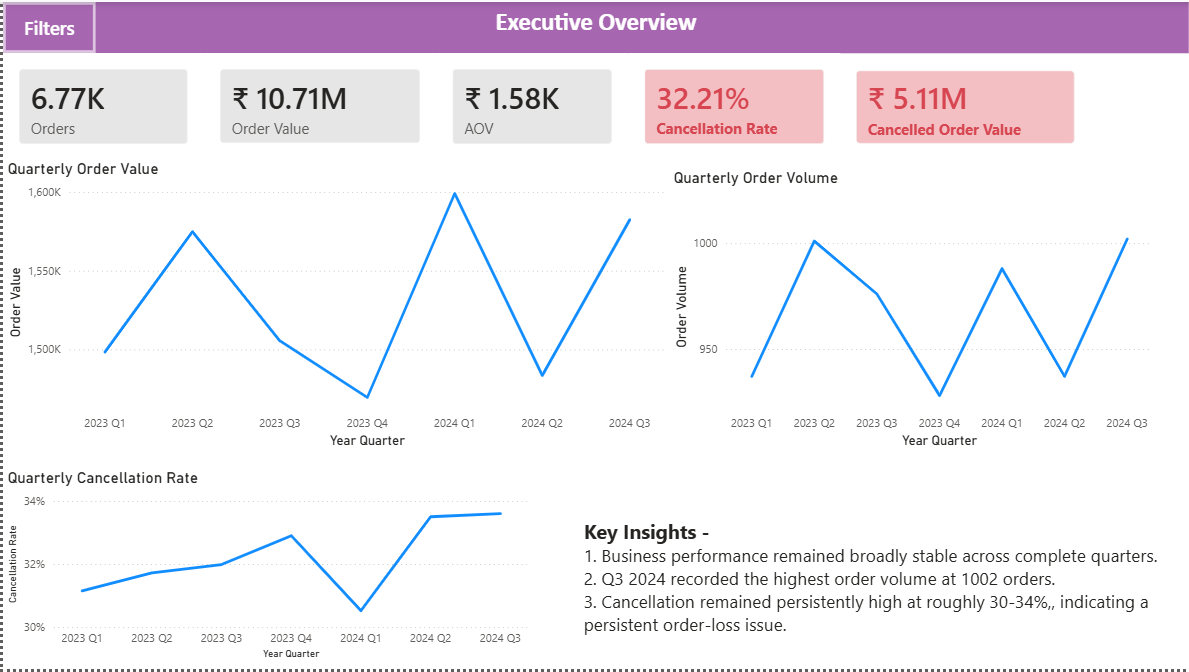

This screenshot's page, from the dashboard's own definition file:
{"tool":"powerbi","page":{"name":"Executive Overview","canvas":[1280,720],"ordinal":0},"visuals":[{"type":"textbox","box":[0,0,1280,55],"z":0},{"type":"cardVisual","fields":{"Data":["MeasuresTable.Valid Business Orders"]},"box":[0,55,216.7,115],"z":1000},{"type":"cardVisual","fields":{"Data":["MeasuresTable.Valid Business Order Value"]},"box":[217,55.1,251,115],"z":2000},{"type":"cardVisual","fields":{"Data":["MeasuresTable.Valid Business AOV"]},"box":[468.3,55,206.7,115],"z":3000},{"type":"cardVisual","fields":{"Data":["MeasuresTable.Valid Cancellation Rate"]},"box":[675,55,228.3,115],"z":4000},{"type":"cardVisual","fields":{"Data":["MeasuresTable.Valid Cancelled Order Value"]},"box":[903.5,56.7,270.4,113.3],"z":5000},{"type":"lineChart","title":"Quarterly Order Value","fields":{"Category":["Date.Year Quarter"],"Y":["MeasuresTable.Valid Business Order Value"]},"box":[0,170,718.9,315.7],"z":6000},{"type":"lineChart","title":"Quarterly Cancellation Rate","fields":{"Category":["Date.Year Quarter"],"Y":["MeasuresTable.Valid Cancellation Rate"]},"box":[0,503.3,571.7,210],"z":7000},{"type":"lineChart","title":"Quarterly Order Volume","fields":{"Category":["Date.Year Quarter"],"Y":["MeasuresTable.Valid Business Orders"]},"box":[718.9,179.7,526.2,306],"z":8000},{"type":"textbox","box":[621.8,550.5,641.2,163.5],"z":9000},{"type":"actionButton","title":"Open Filters","box":[0,0,100,55],"z":14000}]}

Visuals, with their boxes in screenshot pixels (x1, y1, x2, y2), scaled from the page's 1280x720 canvas onto the 1189x672 screenshot:
textbox: <region>0, 0, 1188, 51</region>
cardVisual - MeasuresTable.Valid Business Orders: <region>0, 51, 201, 159</region>
cardVisual - MeasuresTable.Valid Business Order Value: <region>202, 51, 435, 159</region>
cardVisual - MeasuresTable.Valid Business AOV: <region>435, 51, 627, 159</region>
cardVisual - MeasuresTable.Valid Cancellation Rate: <region>627, 51, 839, 159</region>
cardVisual - MeasuresTable.Valid Cancelled Order Value: <region>839, 53, 1090, 159</region>
"Quarterly Order Value" lineChart: <region>0, 159, 668, 453</region>
"Quarterly Cancellation Rate" lineChart: <region>0, 470, 531, 666</region>
"Quarterly Order Volume" lineChart: <region>668, 168, 1157, 453</region>
textbox: <region>578, 514, 1173, 666</region>
"Open Filters" actionButton: <region>0, 0, 93, 51</region>
